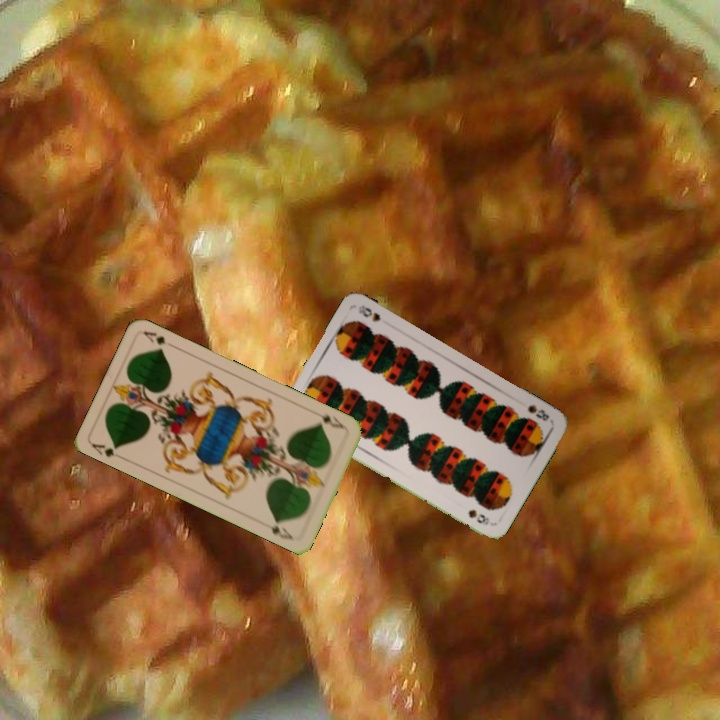GA: (88, 439, 127, 463), (311, 408, 349, 432)
S8: (523, 401, 552, 424)
